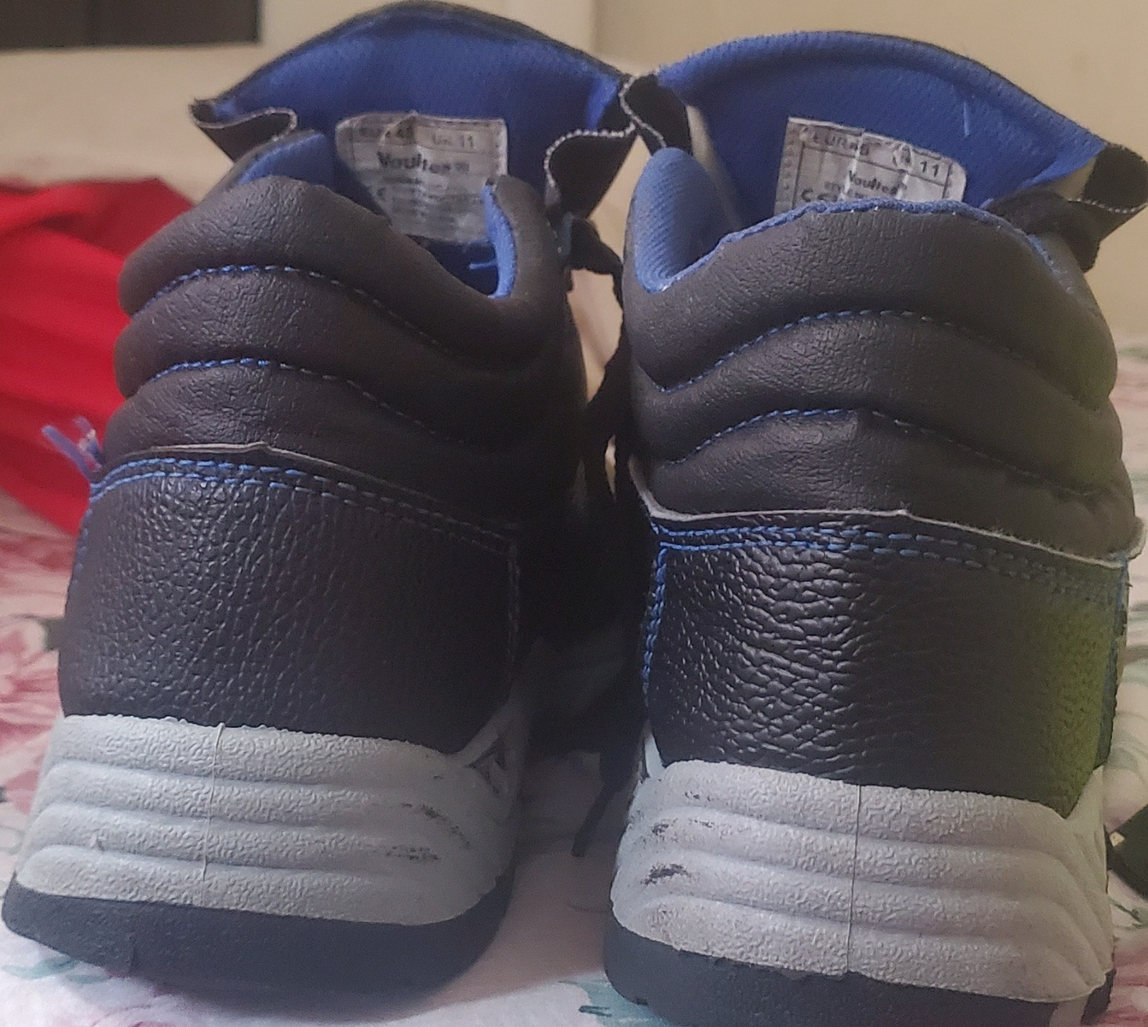safetyboot: (60, 0, 1148, 1027)
